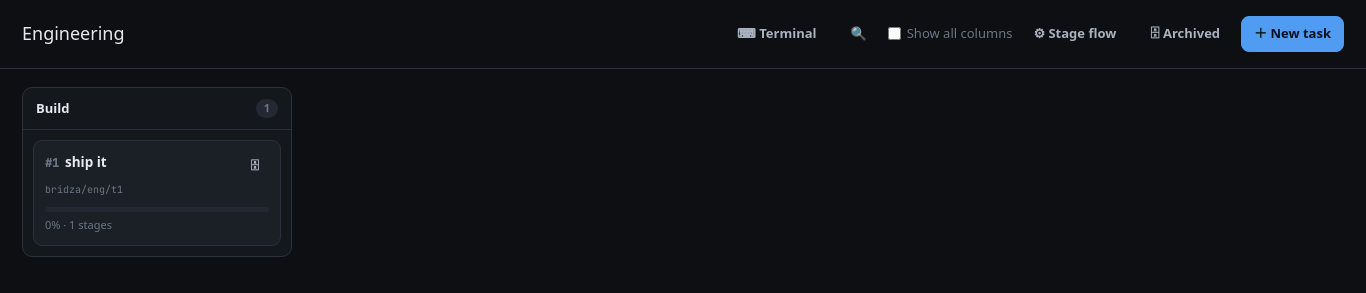
Test: board card tag picker › the hint names L for tags, and F only when there are several flows
The image size is (1366, 293).
Hover over the element with class "kcard" at (157, 193), box [33,140,281,246]
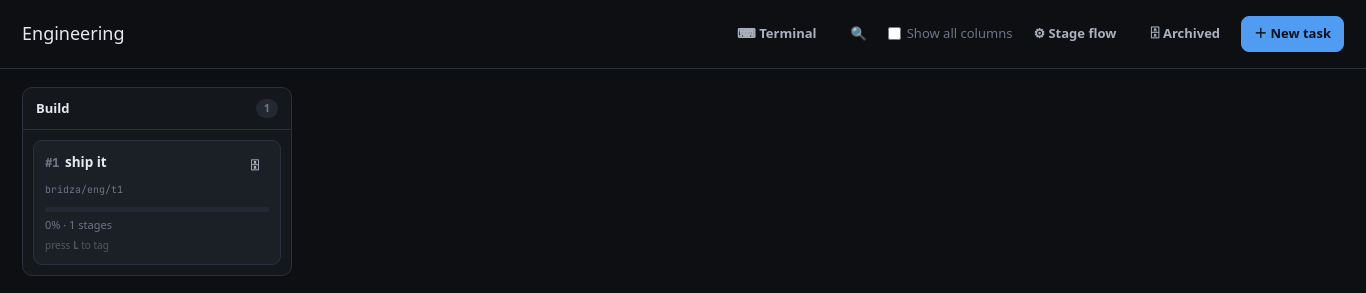
Check: the text "press L to tag" is shown, box [45,238,109,252]
